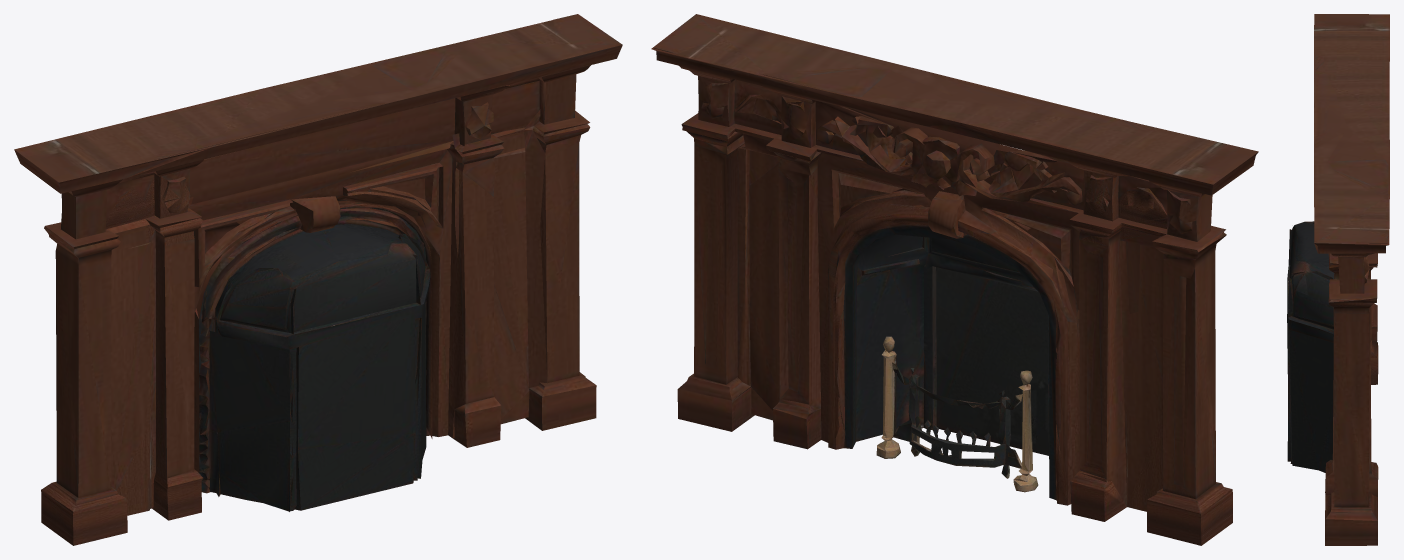
The model's file is mj-fireplace-smoking-room.glb.
3 renders of one model, left to right at view 1: azimuth 30°, elevation 25°; view 2: azimuth 150°, elevation 25°; view 3: azimuth 270°, elevation 25°, orthographic. The views are drawn at different scales.
Visible parts, largest first — view 1: mj-fireplace-smoking-room; view 2: mj-fireplace-smoking-room; view 3: mj-fireplace-smoking-room.
Part boxes in pixels (x1,y1,x2,y2): mj-fireplace-smoking-room: (14, 14, 622, 545); mj-fireplace-smoking-room: (651, 14, 1258, 545); mj-fireplace-smoking-room: (1287, 14, 1389, 545).
Size of the model in its own units: 2.21 by 1.4 by 0.4185.
1 material, 1 textured.
